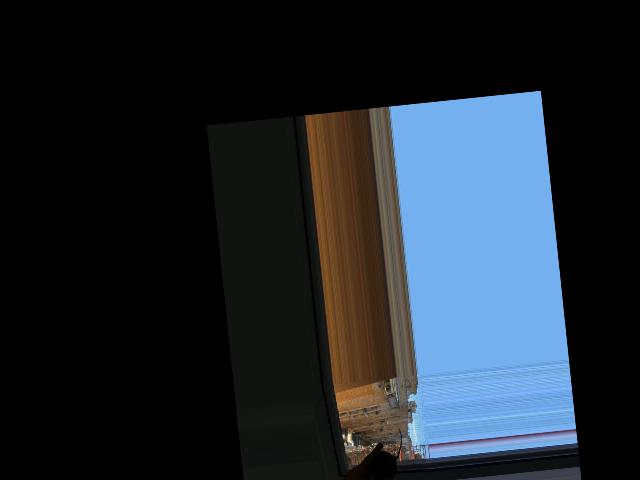beet: (366, 426, 406, 480)
